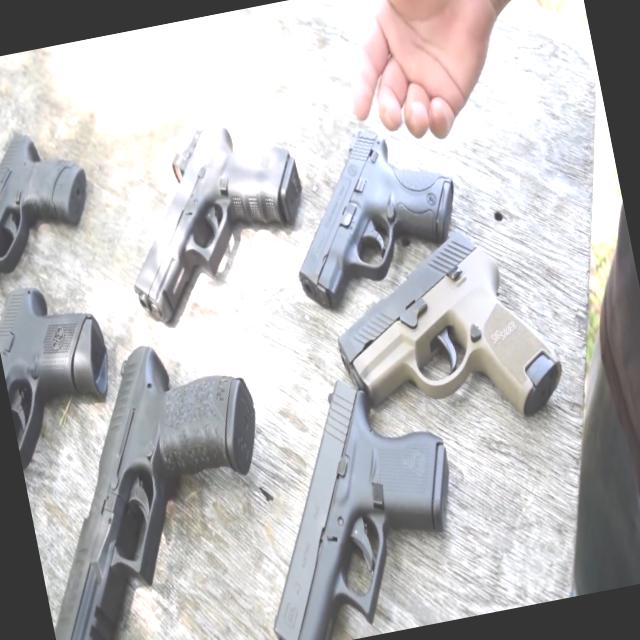handgun: (6, 333, 321, 639), (210, 396, 505, 639), (327, 216, 575, 444), (114, 98, 338, 310), (260, 116, 498, 306), (0, 79, 132, 303), (0, 270, 134, 448)
